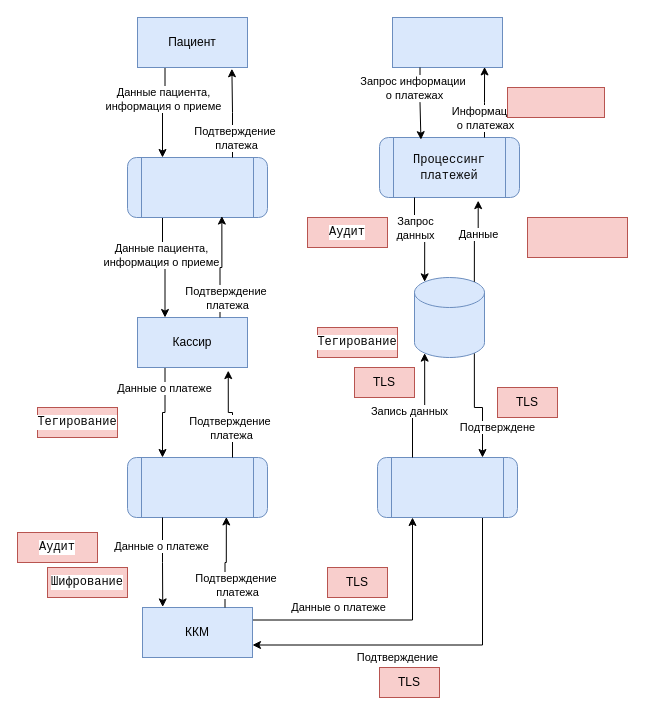
The diagram is 645 pixels wide and 715 high, and some of its shapes have lost their labels. The shapes that lost their labels are listed below. From the top down, each one's centre as x and y in pixels, then its label:
the point at 447,42: Бухгалтер
the point at 555,102: Маскирование
the point at 197,187: Оплата за услуги
the point at 577,237: Маскирование шифрование
the point at 449,317: 1С Бухгалтерия
the point at 197,487: Принятие оплаты
the point at 447,487: Занесение информации о принятии платежа
